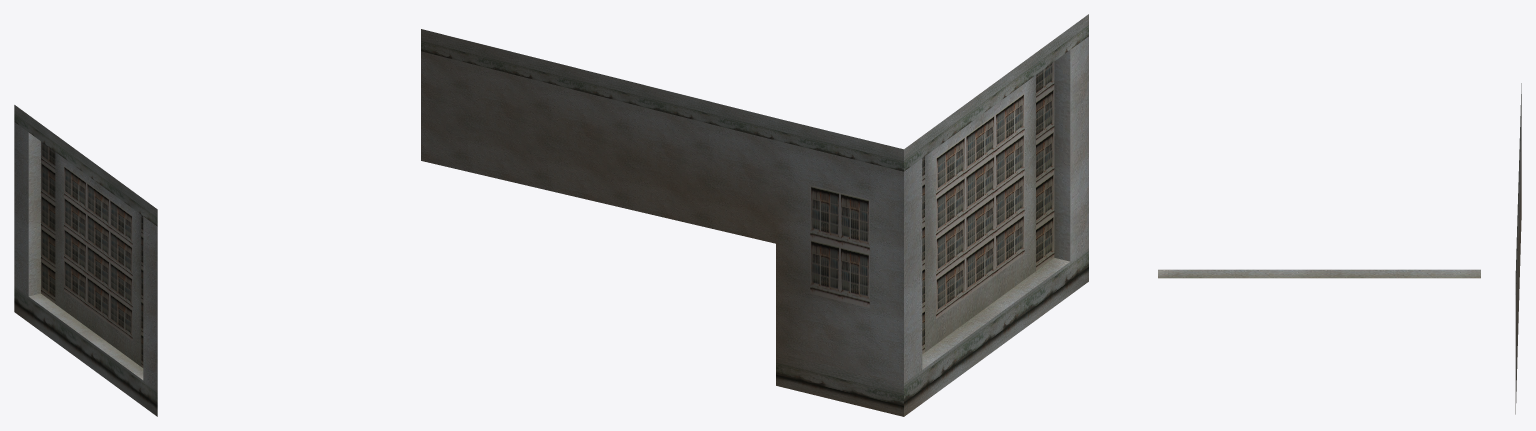
Rendered from M10_Z02_12_Tower.glb.
3 renders of one model, left to right at view 1: azimuth 30°, elevation 25°; view 2: azimuth 150°, elevation 25°; view 3: azimuth 270°, elevation 25°, orthographic. The views are drawn at different scales.
Visible parts, largest first — view 1: M10_Z02_12_TOWER; view 2: M10_Z02_12_TOWER; view 3: M10_Z02_12_TOWER.
Part boxes in pixels (<box>): M10_Z02_12_TOWER: <box>14,105,157,416</box>; M10_Z02_12_TOWER: <box>421,14,1088,416</box>; M10_Z02_12_TOWER: <box>1158,83,1521,414</box>.
Bounding box in the file's own units: 30.32 × 15.97 × 20.
Materials: 3 (3 with a texture image).
